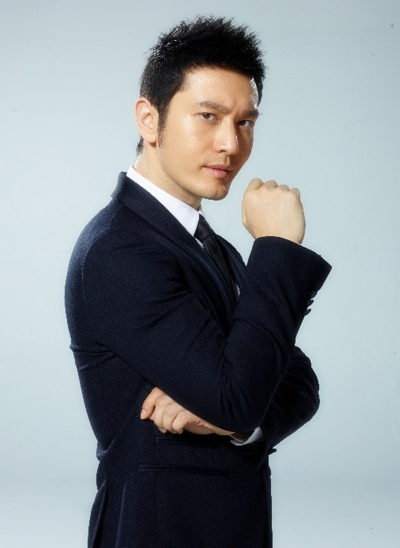male: (118, 12, 277, 209)
